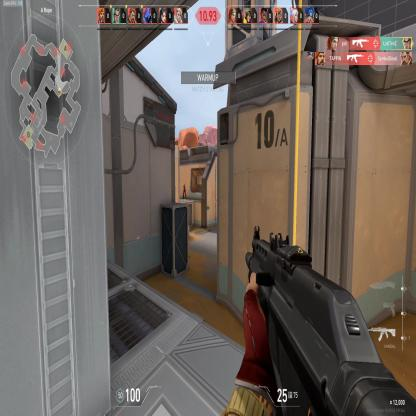enemy: (182, 183, 187, 198)
